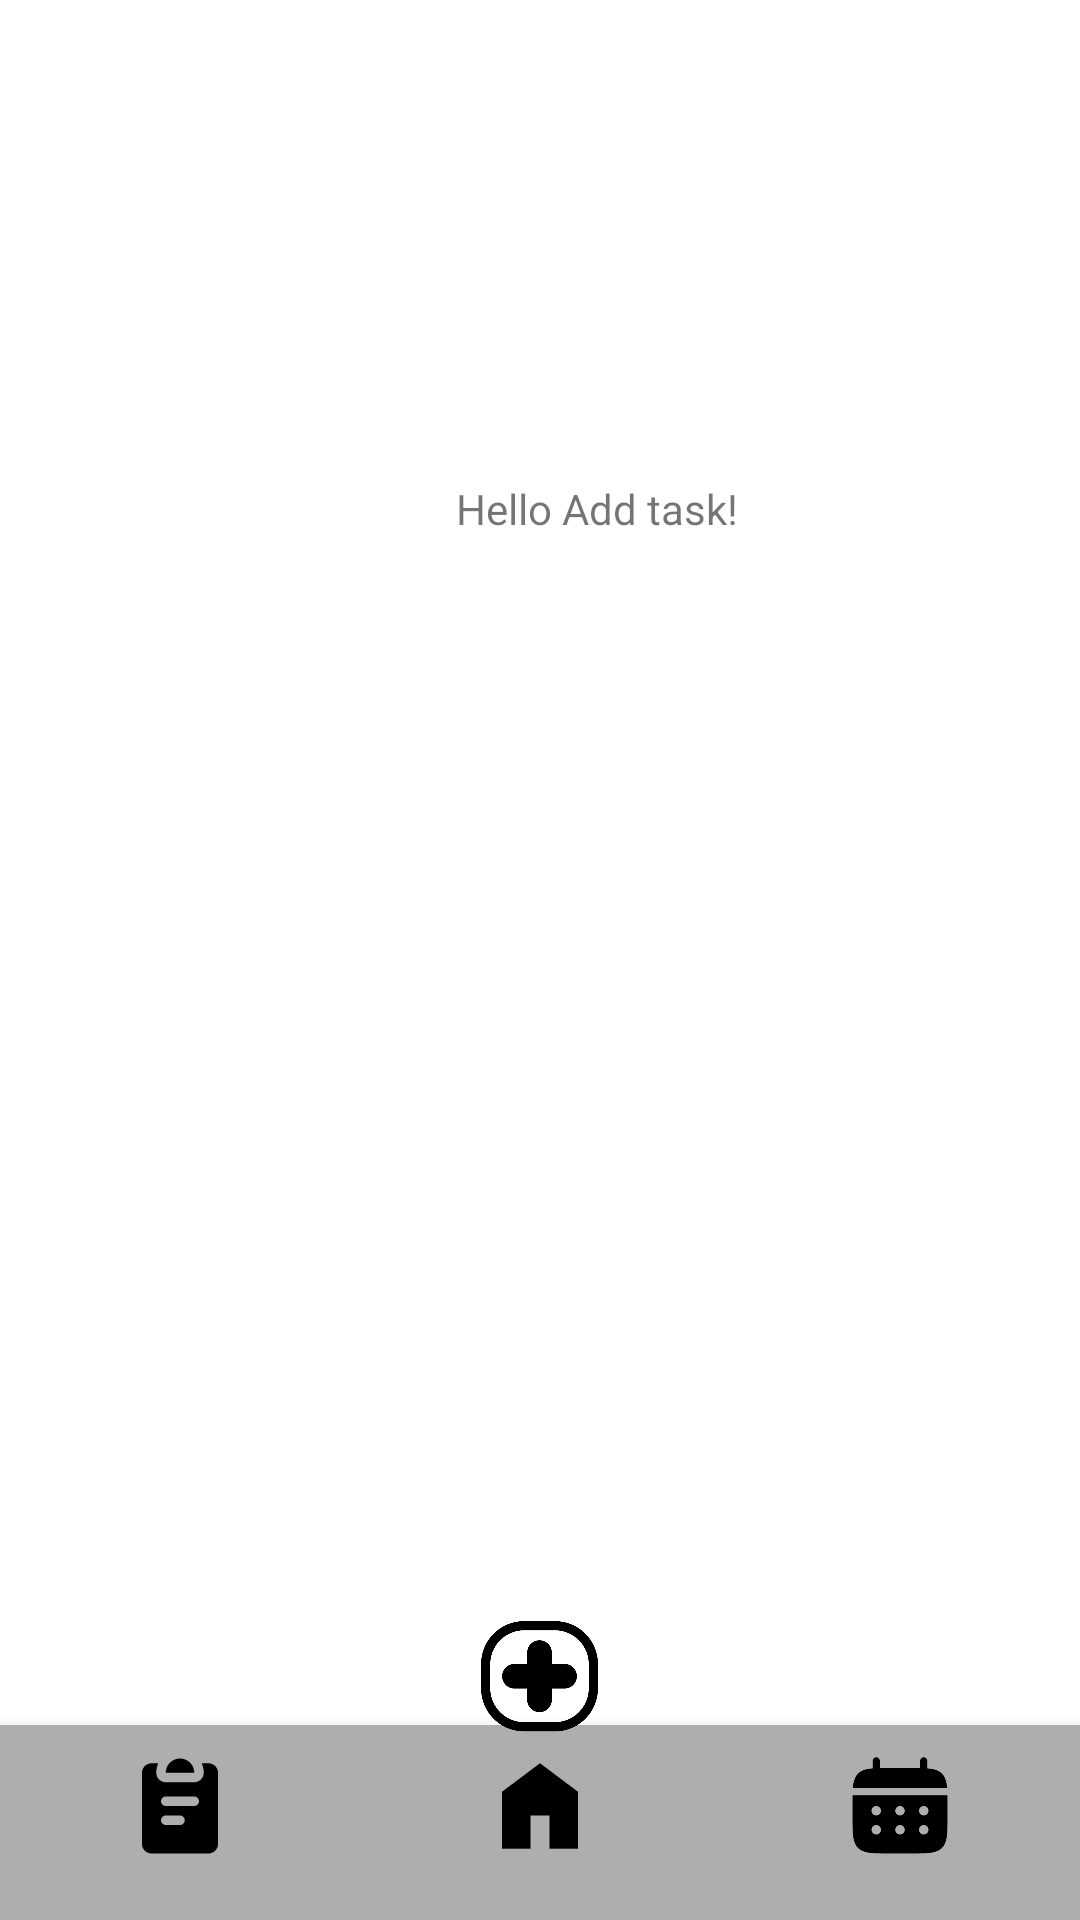

Icons on this 1080px×1920px Android screen, each with the point to tap as point (x, y):
add task: point (540, 1691)
